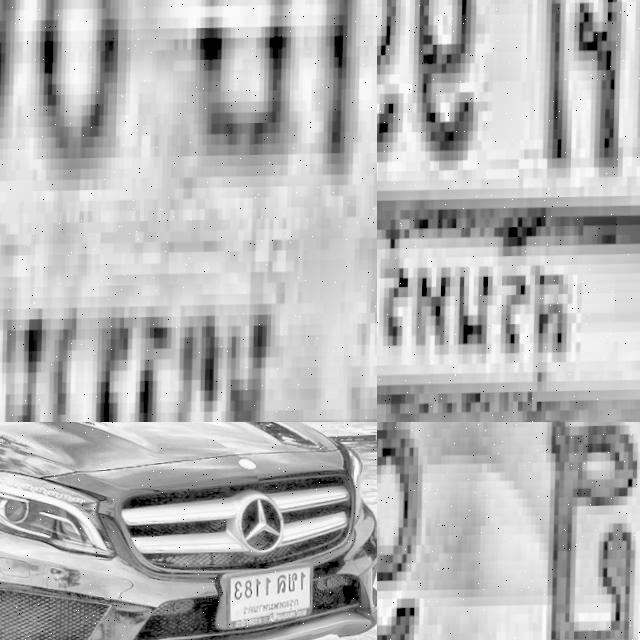license-plate: (0, 0, 377, 422), (377, 0, 640, 422), (377, 422, 640, 640), (216, 563, 315, 640)
